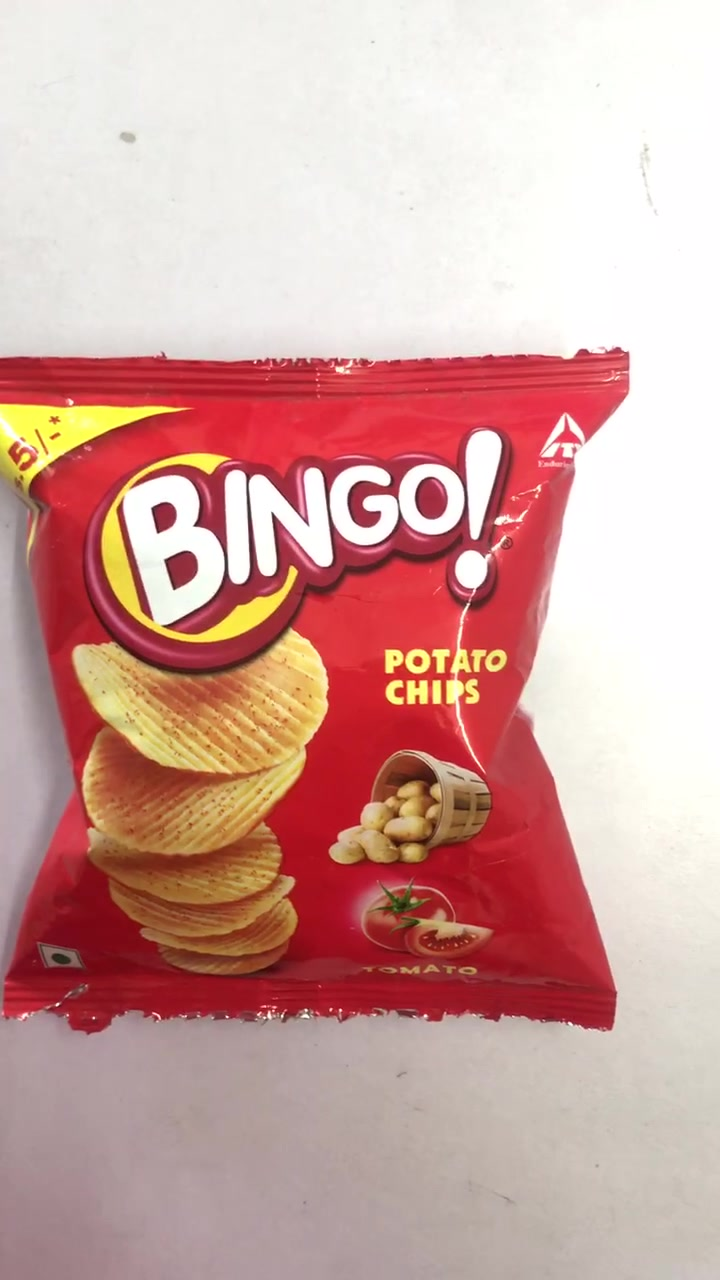Bingo: (2, 360, 617, 1020)
